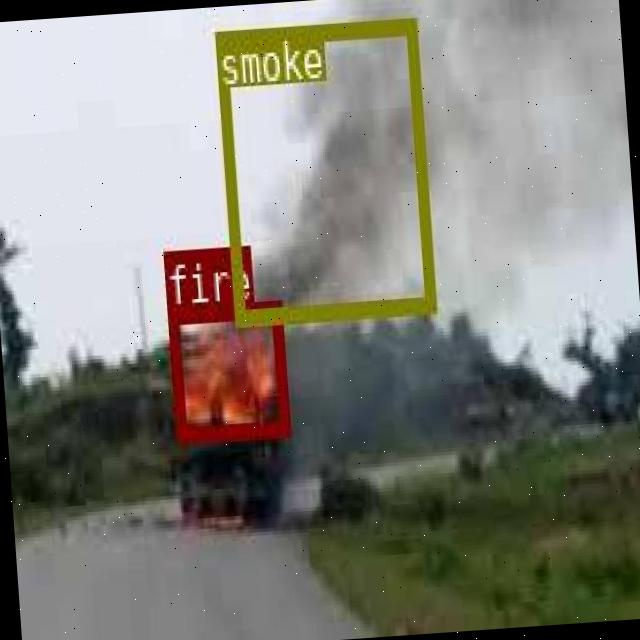fire: (166, 300, 287, 440)
smoke: (212, 17, 432, 323)
